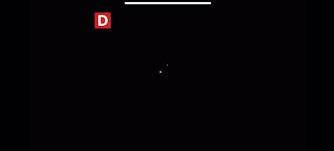Plane: (148, 56, 177, 81)
